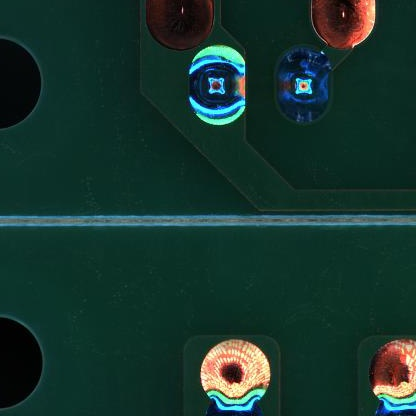spot: (186, 46, 248, 124), (275, 47, 332, 123)
